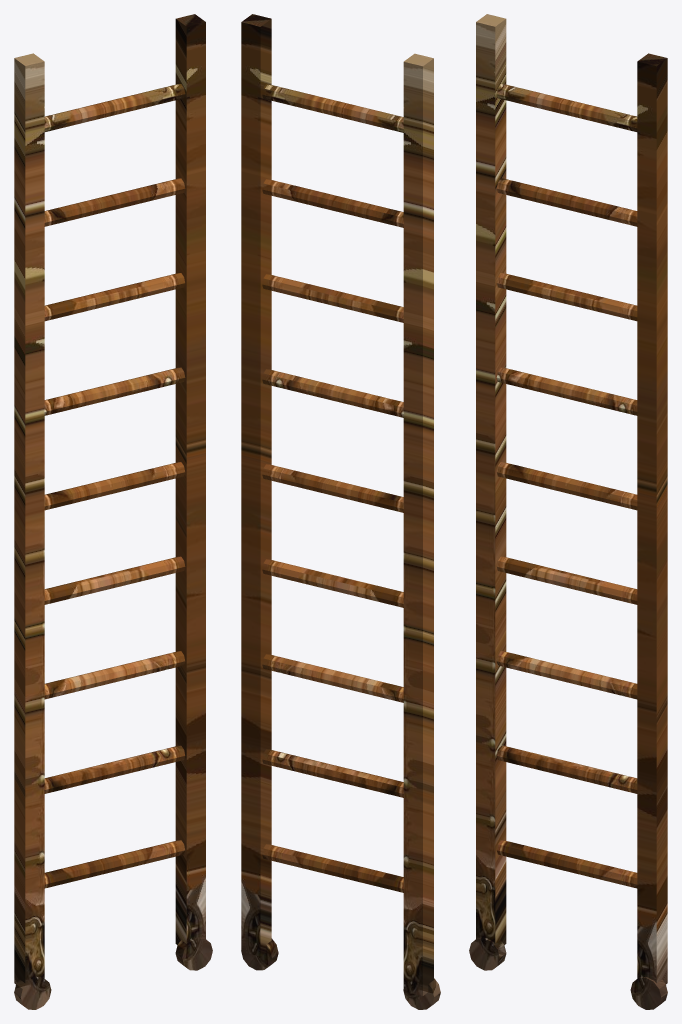
The model's file is v3-library-ladder.glb.
3 renders of one model, left to right at view 1: azimuth 30°, elevation 25°; view 2: azimuth 150°, elevation 25°; view 3: azimuth 330°, elevation 25°, orthographic.
Parts seen in each view (by area): view 1: v3-library-ladder; view 2: v3-library-ladder; view 3: v3-library-ladder.
Boxes of the visible parts, box(x1,y1,x2,y2) form: v3-library-ladder: box(14, 14, 212, 1009); v3-library-ladder: box(241, 14, 440, 1009); v3-library-ladder: box(469, 14, 667, 1009).
Size of the model in its own units: 0.5 by 2.35 by 0.055.
1 material, 1 textured.
